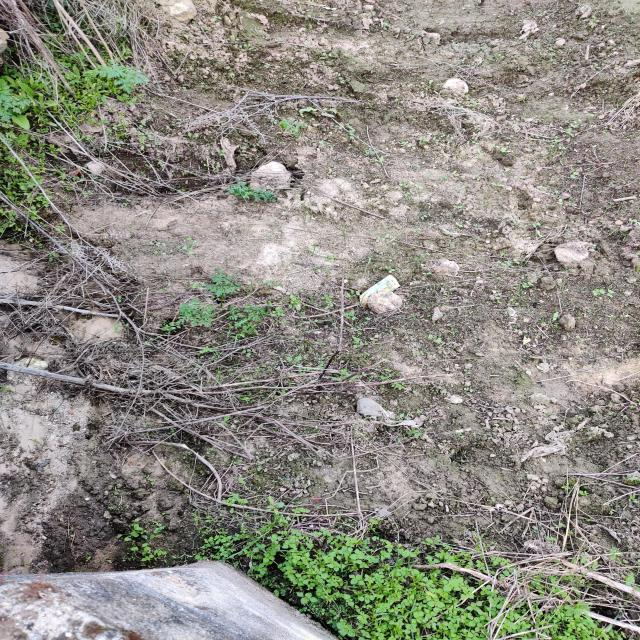litter: (353, 264, 410, 310)
